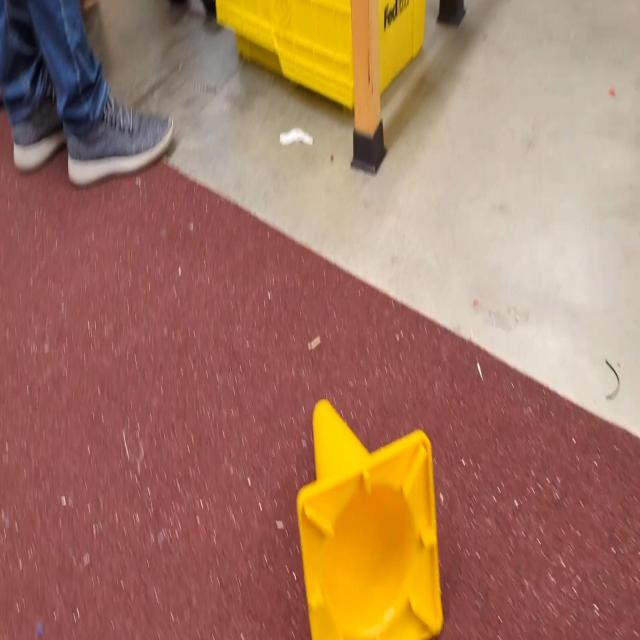frc_cone: (296, 398, 442, 640)
